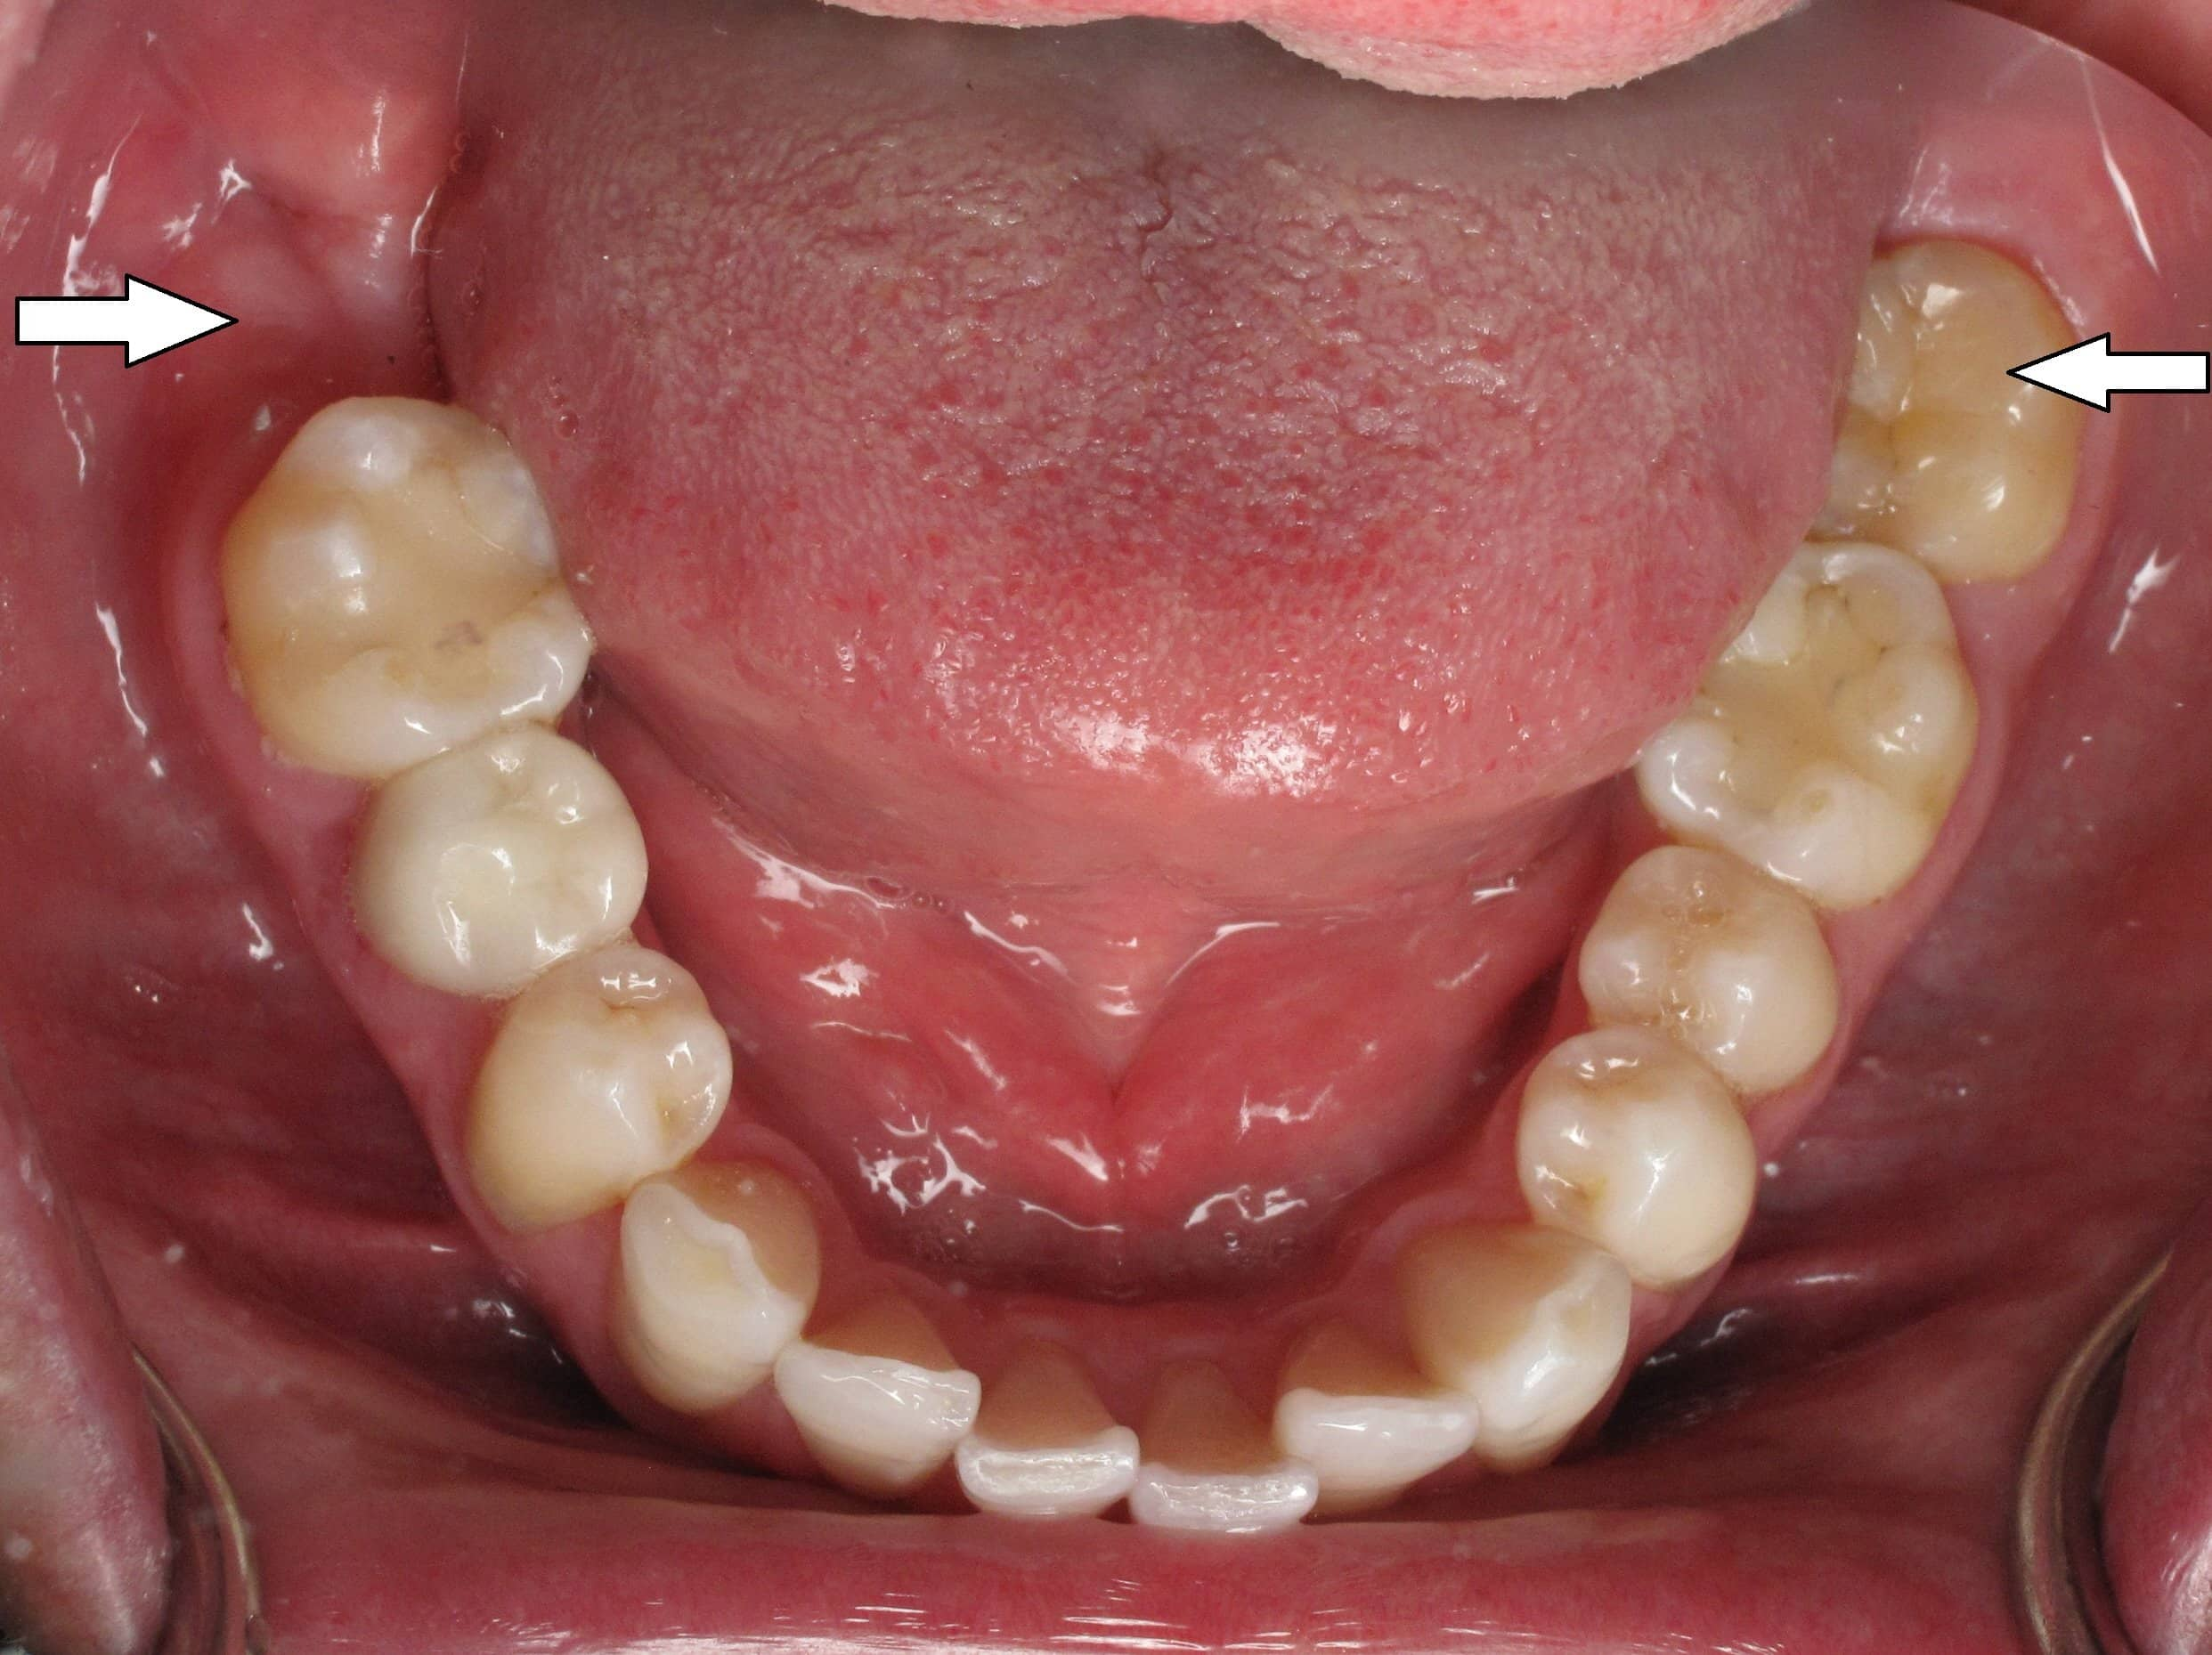LL1BC_healthy: (1529, 1050, 1751, 1262)
LL1M_healthy: (1669, 572, 1962, 866)
LL2BC_healthy: (1605, 854, 1836, 1078)
LL2M_decay: (1831, 254, 2014, 553)
LLCI_healthy: (1141, 1358, 1316, 1532)
LLC_healthy: (1417, 1224, 1636, 1450)
LLLI_healthy: (1275, 1323, 1468, 1499)
LR1BC_healthy: (490, 972, 720, 1184)
LR1M_healthy: (254, 422, 579, 721)
LR2BC_healthy: (383, 751, 638, 960)
LRCI_healthy: (981, 1349, 1130, 1519)
LRC_healthy: (617, 1172, 814, 1386)
LRLI_healthy: (803, 1304, 979, 1493)
